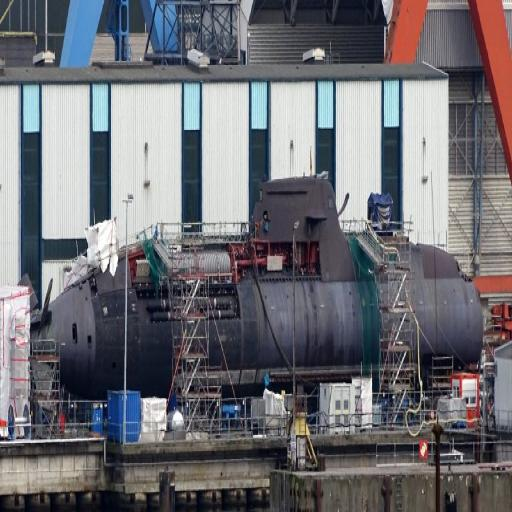submarine: (13, 172, 491, 369)
